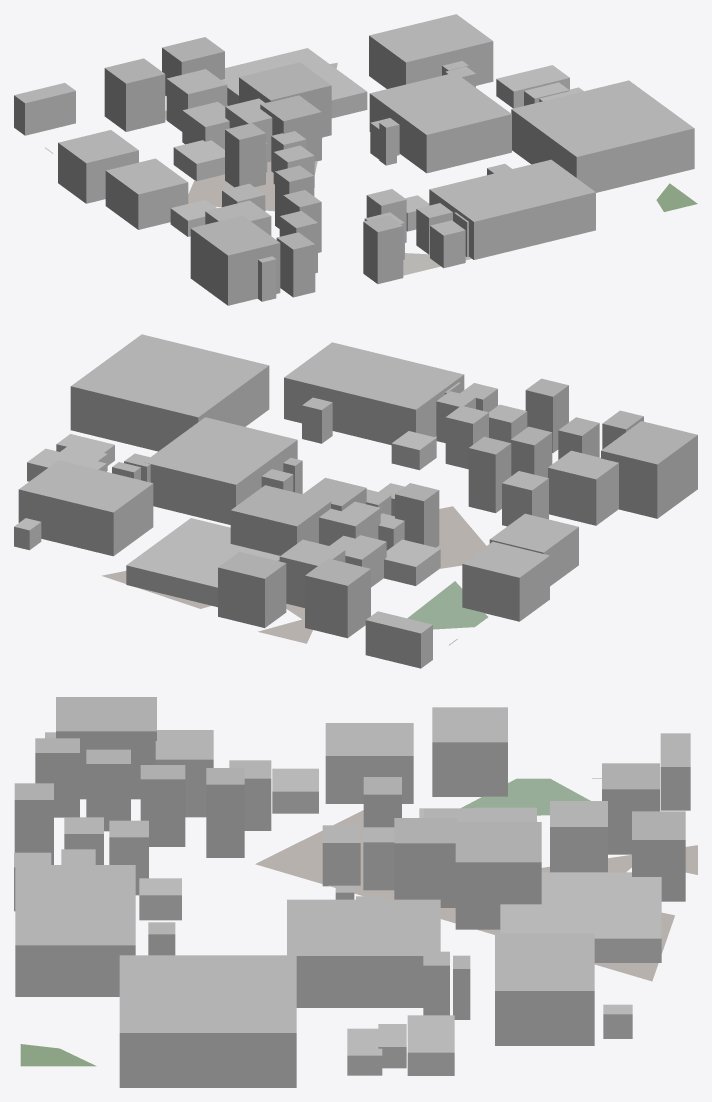
Rendered from 130_93_mid.glb.
3 views of the same model, one above another, from view 1: azimuth 30°, elevation 25°; view 2: azimuth 150°, elevation 25°; view 3: azimuth 270°, elevation 25° (orthographic). The views are drawn at different scales.
Bounding box in the file's own units: 568 × 60.64 × 505.
